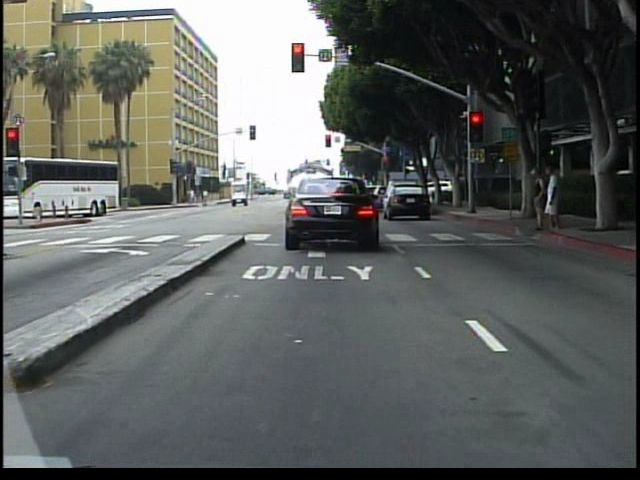person: (541, 165, 565, 237), (525, 163, 547, 233)
